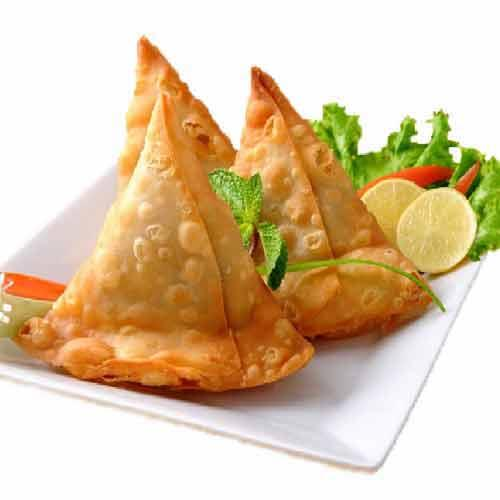samosa: (49, 90, 313, 390), (231, 67, 418, 276), (277, 266, 430, 337), (315, 173, 318, 179)
